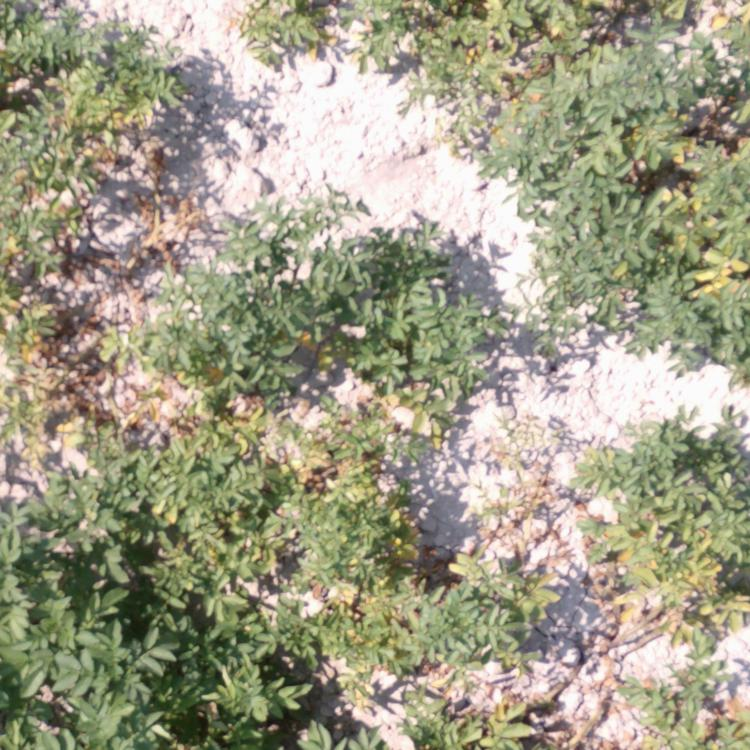healthy: (1, 479, 104, 750), (103, 595, 280, 745), (371, 227, 484, 395), (522, 138, 601, 350), (190, 223, 372, 314), (284, 686, 388, 746), (253, 181, 365, 223)
stressed: (283, 563, 557, 687), (606, 138, 750, 373), (96, 315, 280, 479), (282, 389, 428, 564), (1, 225, 100, 479), (575, 1, 750, 137), (103, 480, 281, 594), (593, 516, 750, 644), (1, 1, 91, 220), (431, 1, 572, 137), (588, 414, 750, 517), (633, 650, 750, 750), (398, 688, 550, 750), (92, 25, 173, 137), (282, 313, 370, 393), (336, 1, 425, 78), (240, 1, 336, 63), (431, 135, 514, 183)
